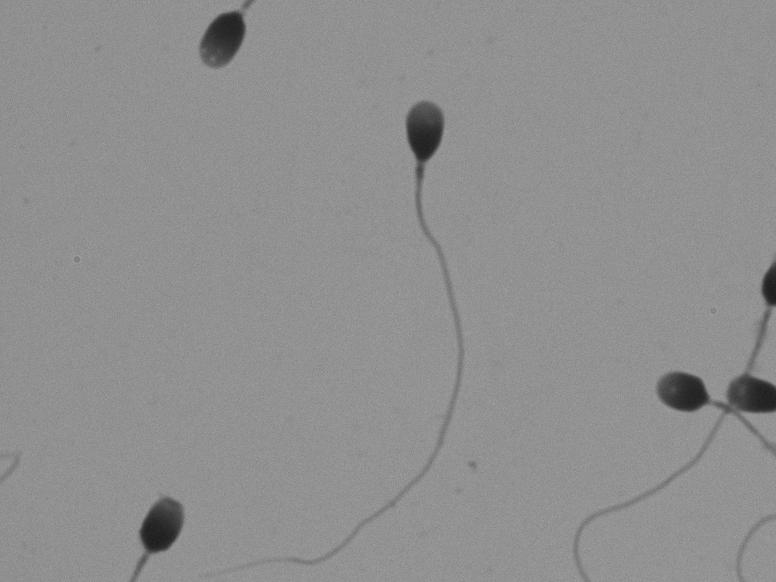Normal: (329, 86, 528, 549)
